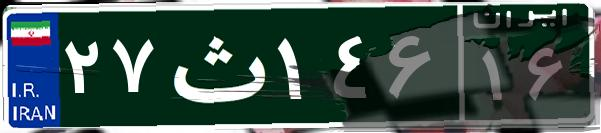1: (273, 28, 330, 110), (475, 38, 525, 113)
2: (57, 26, 110, 107)
4: (330, 28, 385, 110)
6: (385, 28, 445, 110), (525, 38, 570, 115)
7: (110, 28, 158, 105)
ث: (158, 15, 273, 115)
